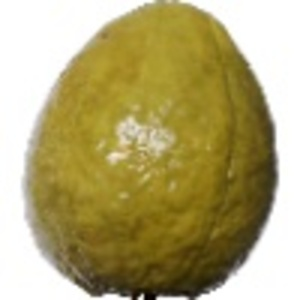goiaba: (12, 2, 284, 291)
